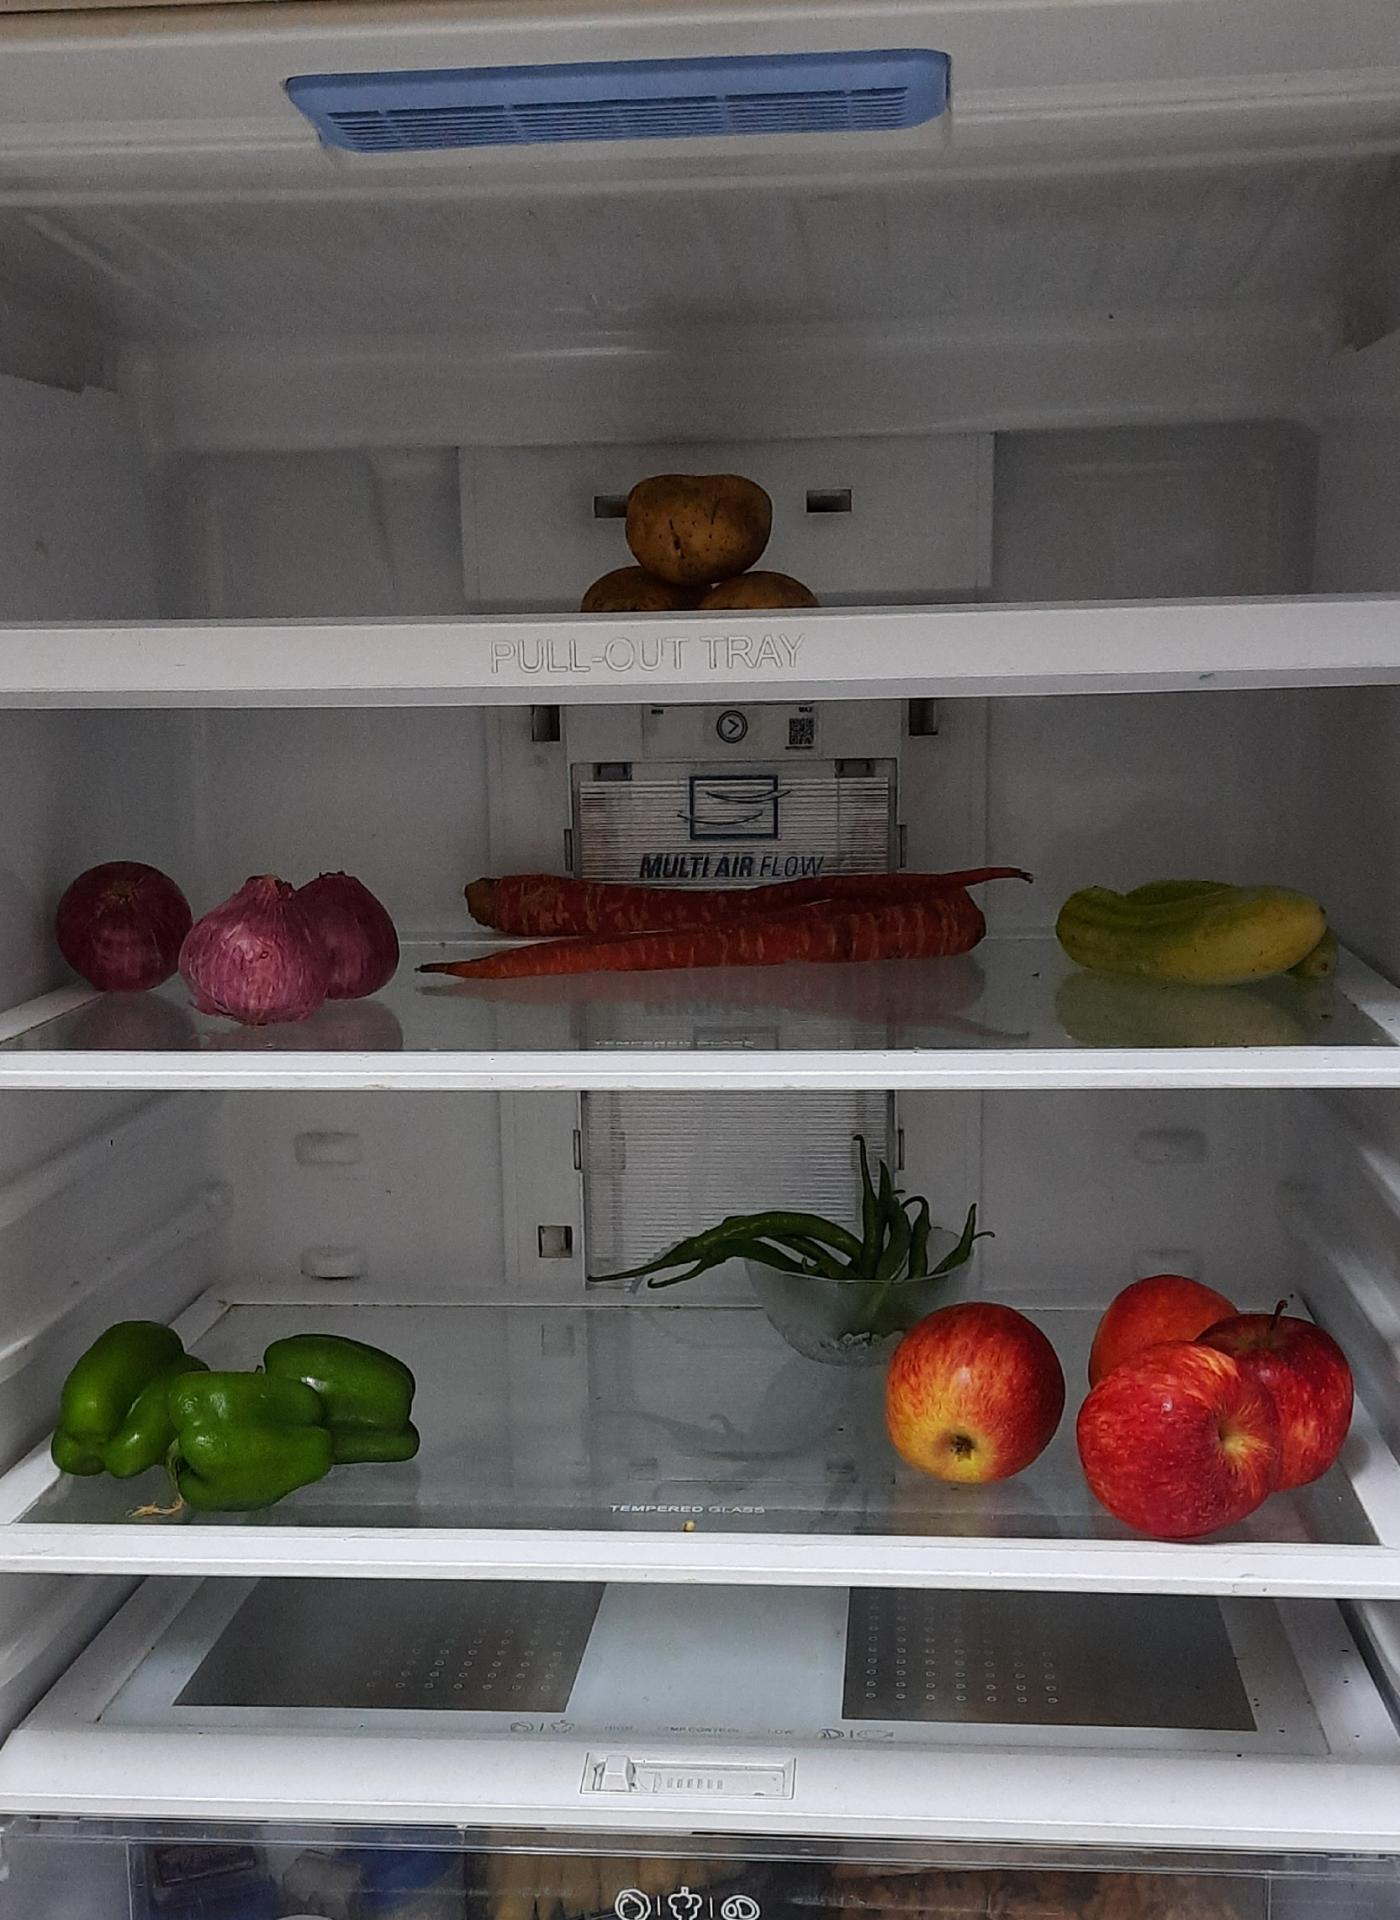apple: (1076, 1260, 1360, 1543), (881, 1292, 1066, 1480)
capsicum: (49, 1319, 429, 1510)
carrots: (446, 856, 1024, 969)
chillies: (640, 1139, 994, 1298)
cucumber: (1050, 881, 1343, 990)
onion: (51, 851, 410, 1027)
potato: (577, 467, 807, 625)
